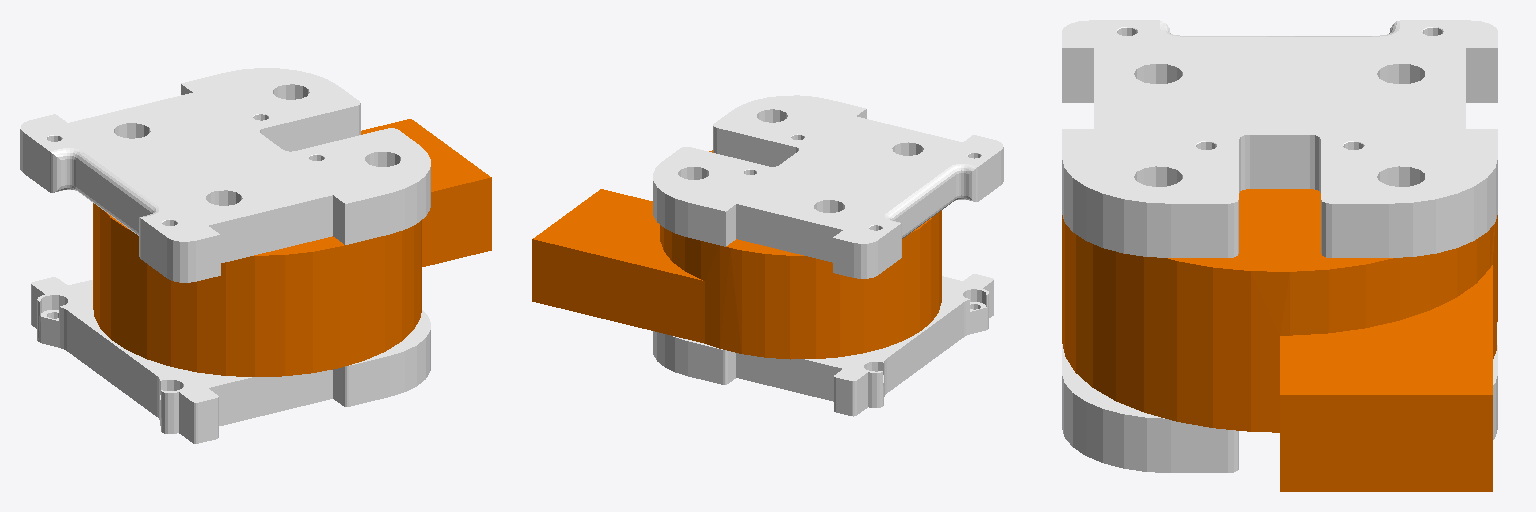
URDF robot description (FT_Electric_right):
<?xml version="1.0" ?>
<robot
  name="FT_Electric_right">
  <link
    name="FT_bottom_plate_right">
    <inertial>
      <origin
        xyz="0.034783 -1.3323E-15 0.0055211"
        rpy="0 0 0" />
      <mass
        value="0.051726" />
      <inertia
        ixx="2.5588E-05"
        ixy="2.7505E-21"
        ixz="2.4673E-08"
        iyy="2.3459E-05"
        iyz="4.1597E-22"
        izz="4.7997E-05" />
    </inertial>
    <visual>
      <origin
        xyz="0 0 0"
        rpy="0 0 0" />
      <geometry>
        <mesh
          filename="package://birl_baxter_description/urdf/ft/meshes/FT_bottom_plate.STL" />
      </geometry>
      <material
        name="">
        <color
          rgba="1 1 1 1" />
      </material>
    </visual>
    <collision>
      <origin
        xyz="0 0 0"
        rpy="0 0 0" />
      <geometry>
        <mesh
          filename="package://birl_baxter_description/urdf/ft/meshes/FT_bottom_plate.STL" />
      </geometry>
    </collision>
  </link>
  <link
    name="FT_right">
    <inertial>
      <origin
        xyz="0.003889 0.0057216 0.014109"
        rpy="0 0 0" />
      <mass
        value="1.4264" />
      <inertia
        ixx="0.0010241"
        ixy="0.00016944"
        ixz="2.4095E-05"
        iyy="0.00071846"
        iyz="5.2318E-05"
        izz="0.0014993" />
    </inertial>
    <visual>
      <origin
        xyz="0 0 0"
        rpy="0 0 0" />
      <geometry>
        <mesh
          filename="package://birl_baxter_description/urdf/ft/meshes/FT.STL" />
      </geometry>
      <material
        name="">
        <color
          rgba="1 0.5 0 1.0" />
      </material>
    </visual>
    <collision>
      <origin
        xyz="0 0 0"
        rpy="0 0 0" />
      <geometry>
        <mesh
          filename="package://birl_baxter_description/urdf/ft/meshes/FT.STL" />
      </geometry>
    </collision>
  </link>
  <joint
    name="FT_Bottom_Joint_right"
    type="fixed">
    <origin
      xyz="0.041625 -0.00085087 0.040469"
      rpy="-3.1416 6.2028E-17 1.5708" />
    <parent
      link="FT_bottom_plate_right" />
    <child
      link="FT_right" />
    <axis
      xyz="0 0 0" />
  </joint>
  <link
    name="FT_Top_Plate_right">
    <inertial>
      <origin
        xyz="-0.0067444 -3.2055E-10 0.0054943"
        rpy="0 0 0" />
      <mass
        value="0.053196" />
      <inertia
        ixx="2.7087E-05"
        ixy="5.8629E-13"
        ixz="-2.2091E-08"
        iyy="2.5333E-05"
        iyz="4.732E-16"
        izz="5.1339E-05" />
    </inertial>
    <visual>
      <origin
        xyz="0 0 0"
        rpy="0 0 0" />
      <geometry>
        <mesh
          filename="package://birl_baxter_description/urdf/ft/meshes/FT_Top_Plate.STL" />
      </geometry>
      <material
        name="">
        <color
          rgba="1 1 1 1" />
      </material>
    </visual>
    <collision>
      <origin
        xyz="0 0 0"
        rpy="0 0 0" />
      <geometry>
        <mesh
          filename="package://birl_baxter_description/urdf/ft/meshes/FT_Top_Plate.STL" />
      </geometry>
    </collision>
  </link>
  <joint
    name="FT_Top_Joint_right"
    type="revolute">
    <origin
      xyz="0.00085087 -0.00087515 -0.0030305"
      rpy="3.1416 5.017E-16 1.5708" />
    <parent
      link="FT_right" />
    <child
        link="FT_Top_Plate_right" />
    <axis
        xyz = "0 0 1"/>
    <limit
        lower = "0"
        upper = "0"
        velocity = "0.2"
        effort = "0.2"/>
  </joint>
  
  <gazebo reference="FT_right">
    <material>Gazebo/Skull</material>
  </gazebo>
</robot>

--- Render facts (derived) ---
3 views of the same robot in one strip: view 1: azimuth 30°, elevation 25°; view 2: azimuth 150°, elevation 25°; view 3: azimuth 270°, elevation 25° (orthographic).
Robot: FT_Electric_right — 3 links, 2 joints (1 revolute, 1 fixed); root link FT_bottom_plate_right; default pose: all joints at 0.
Links seen in each view (by area): view 1: FT_Top_Plate_right, FT_right, FT_bottom_plate_right; view 2: FT_right, FT_Top_Plate_right, FT_bottom_plate_right; view 3: FT_right, FT_Top_Plate_right, FT_bottom_plate_right.
Link boxes in pixels (x1,y1,x2,y2): FT_Top_Plate_right: (20,68,430,282); FT_right: (93,119,491,376); FT_bottom_plate_right: (31,277,430,443); FT_right: (532,150,941,359); FT_Top_Plate_right: (653,95,1003,278); FT_bottom_plate_right: (653,274,993,416); FT_right: (1062,189,1497,491); FT_Top_Plate_right: (1062,20,1497,257); FT_bottom_plate_right: (1062,345,1497,472).
Size in the robot's own frame: 0.111 by 0.08 by 0.0545 metres.
3 mesh visuals loaded from 3 distinct referenced files (3 binary STL).
